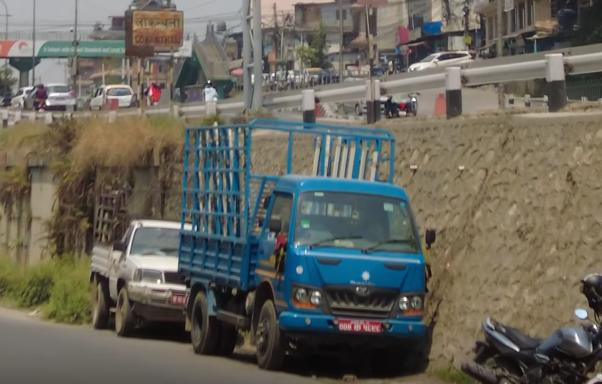bike: (457, 268, 602, 384)
car: (13, 82, 79, 116), (403, 48, 483, 72)
mini_truck: (178, 111, 453, 372)
taxi: (87, 80, 141, 112)
transport_vehicle: (80, 175, 203, 343)
